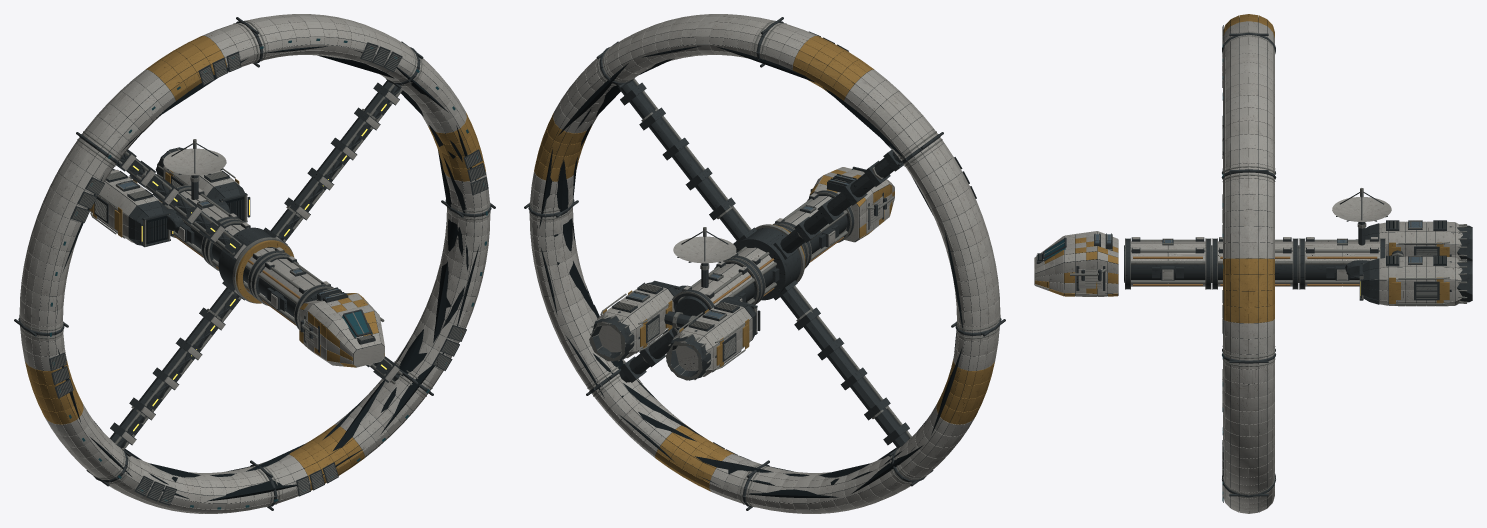
Rendered from model-reduced.glb.
3 views of the same model, side by side, from view 1: azimuth 30°, elevation 25°; view 2: azimuth 150°, elevation 25°; view 3: azimuth 270°, elevation 25° (orthographic). The views are drawn at different scales.
Visible parts, largest first — view 1: rotor:pale-steel-1, rotor:dark-structure, rotor:pale-steel-2, rotor:pale-steel-0, rotor:recess-black, rotor:ochre-0, rotor:machined-alloy, dark-structure, pale-steel-0, machined-alloy, pale-steel-1, pale-steel-2 (+2 smaller); view 2: rotor:pale-steel-1, rotor:pale-steel-2, rotor:dark-structure, rotor:pale-steel-0, rotor:recess-black, rotor:ochre-0, dark-structure, pale-steel-0, machined-alloy, rotor:machined-alloy, pale-steel-1, ochre-0 (+1 smaller); view 3: dark-structure, rotor:pale-steel-2, rotor:pale-steel-1, pale-steel-0, rotor:pale-steel-0, machined-alloy, rotor:ochre-0, pale-steel-1, rotor:recess-black, pale-steel-2, ochre-0, rotor:dark-structure (+2 smaller).
Boxes of the visible parts, left/top/right/bottom form: rotor:pale-steel-1: left=20, top=14, right=489, bottom=513; rotor:dark-structure: left=14, top=17, right=495, bottom=510; rotor:pale-steel-2: left=19, top=14, right=490, bottom=513; rotor:pale-steel-0: left=19, top=14, right=490, bottom=513; rotor:recess-black: left=29, top=29, right=482, bottom=503; rotor:ochre-0: left=25, top=36, right=485, bottom=490; rotor:machined-alloy: left=19, top=20, right=490, bottom=507; dark-structure: left=94, top=143, right=375, bottom=352; pale-steel-0: left=90, top=148, right=384, bottom=366; machined-alloy: left=90, top=139, right=384, bottom=344; pale-steel-1: left=163, top=148, right=384, bottom=367; pale-steel-2: left=164, top=148, right=321, bottom=317; rotor:pale-steel-1: left=530, top=14, right=999, bottom=513; rotor:pale-steel-2: left=529, top=14, right=1000, bottom=513; rotor:dark-structure: left=524, top=17, right=1005, bottom=510; rotor:pale-steel-0: left=529, top=14, right=1000, bottom=513; rotor:recess-black: left=537, top=29, right=990, bottom=503; rotor:ochre-0: left=534, top=36, right=994, bottom=491; dark-structure: left=589, top=166, right=886, bottom=380; pale-steel-0: left=597, top=169, right=894, bottom=376; machined-alloy: left=589, top=174, right=894, bottom=380; rotor:machined-alloy: left=529, top=20, right=1000, bottom=507; pale-steel-1: left=673, top=167, right=889, bottom=301; ochre-0: left=602, top=169, right=894, bottom=366; dark-structure: left=1036, top=192, right=1472, bottom=304; rotor:pale-steel-2: left=1223, top=21, right=1274, bottom=512; rotor:pale-steel-1: left=1223, top=25, right=1274, bottom=513; pale-steel-0: left=1034, top=197, right=1462, bottom=306; rotor:pale-steel-0: left=1223, top=31, right=1274, bottom=510; machined-alloy: left=1037, top=188, right=1472, bottom=305; rotor:ochre-0: left=1223, top=14, right=1274, bottom=323; pale-steel-1: left=1034, top=197, right=1391, bottom=296; rotor:recess-black: left=1224, top=17, right=1274, bottom=511; pale-steel-2: left=1131, top=197, right=1391, bottom=286; ochre-0: left=1035, top=237, right=1449, bottom=303; rotor:dark-structure: left=1221, top=25, right=1276, bottom=502.
Bounding box in the file's own units: 84.52 × 84.49 × 73.69.
11 materials, 9 textured.
